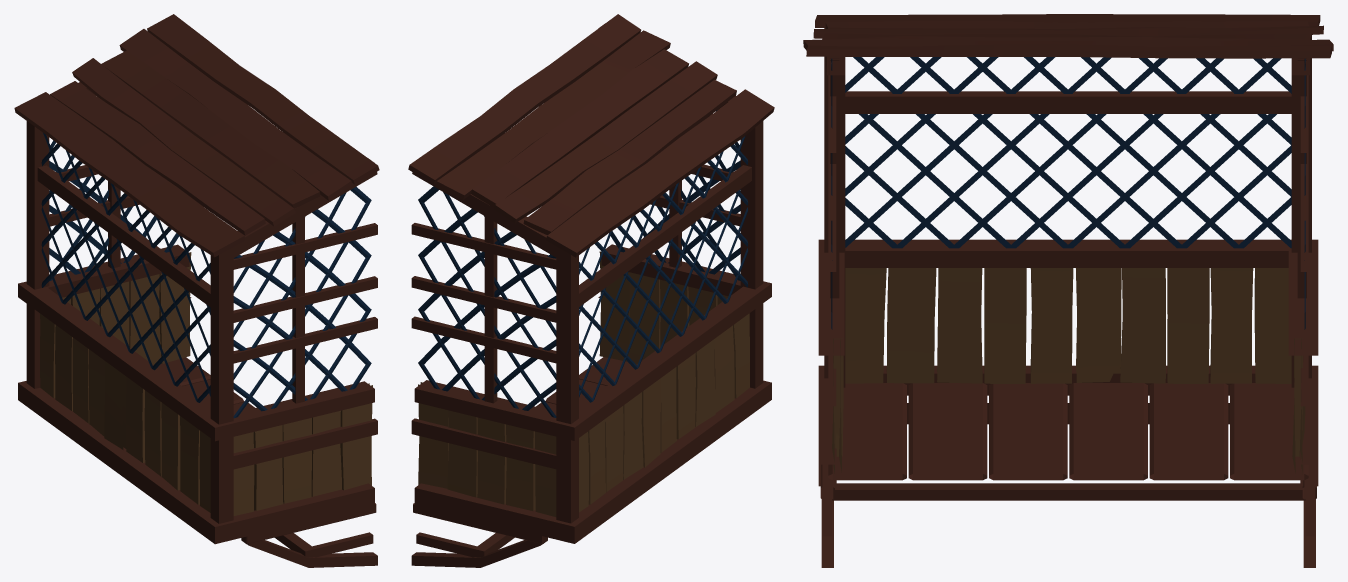
File: balcony_2.FBX
The picture shows the model from 3 angles, left to right: view 1: azimuth 30°, elevation 25°; view 2: azimuth 150°, elevation 25°; view 3: azimuth 270°, elevation 25°; orthographic projection. The views are drawn at different scales.
Visible parts, largest first — view 1: balcony_2; view 2: balcony_2; view 3: balcony_2.
Boxes of the visible parts, x1=… form: balcony_2: x1=14, y1=14, x2=379, y2=567; balcony_2: x1=408, y1=14, x2=774, y2=567; balcony_2: x1=803, y1=14, x2=1333, y2=567.
Bounding box in the file's own units: 274 × 619 × 577.
